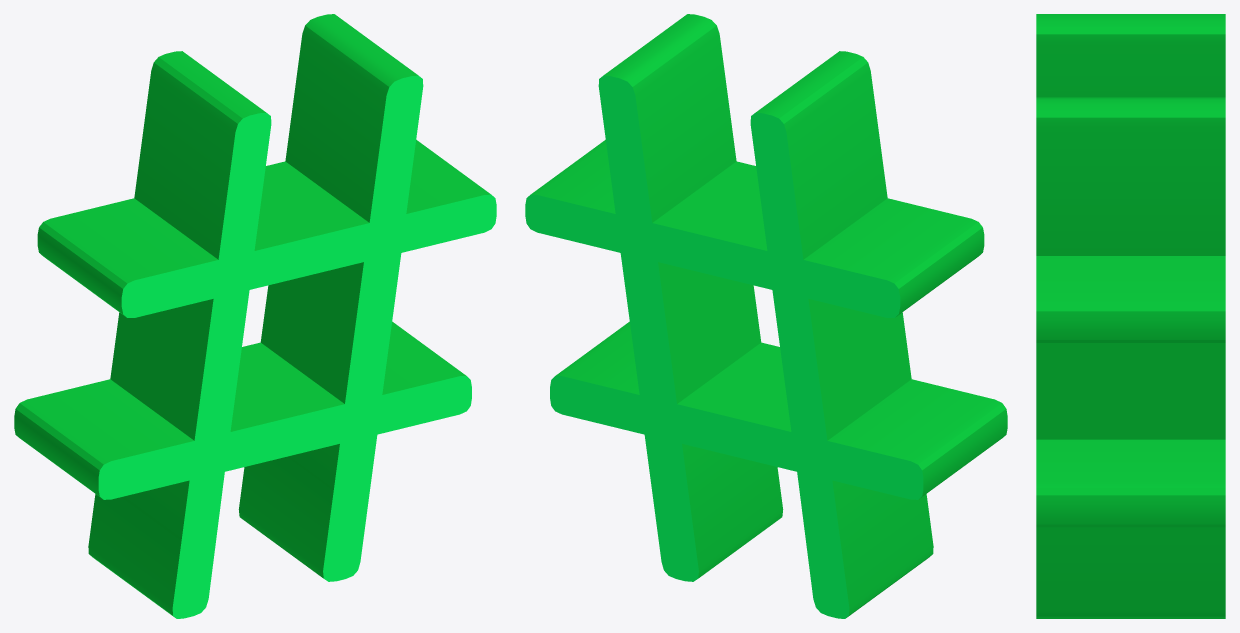
The model's file is 479dce47-da73-4c85-8962-10ee7d179e7a.glb.
3 views of the same model, side by side, from view 1: azimuth 30°, elevation 25°; view 2: azimuth 150°, elevation 25°; view 3: azimuth 270°, elevation 25° (orthographic). The views are drawn at different scales.
Visible parts, largest first — view 1: #_Soul_Green; view 2: #_Soul_Green; view 3: #_Soul_Green.
Boxes of the visible parts, box(x1,y1,x2,y2) form: #_Soul_Green: box(14, 14, 496, 618); #_Soul_Green: box(525, 14, 1007, 618); #_Soul_Green: box(1036, 14, 1225, 618).
Size of what is drawn, in the model's own units: 0.1228 by 0.1435 by 0.045.
2 materials, 2 textured.
